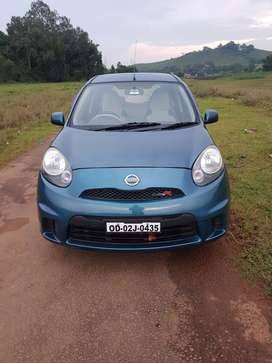OD02J0435: (105, 221, 160, 232)
